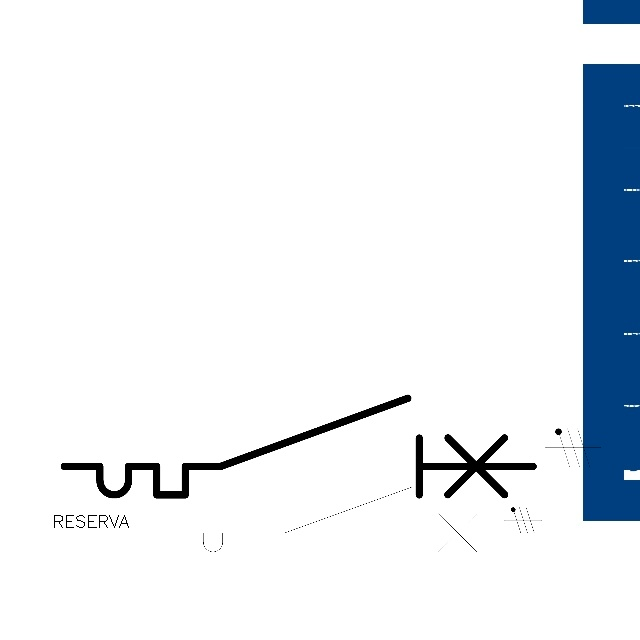interruptor_termomagnetico: (52, 386, 545, 507), (171, 479, 504, 560)
